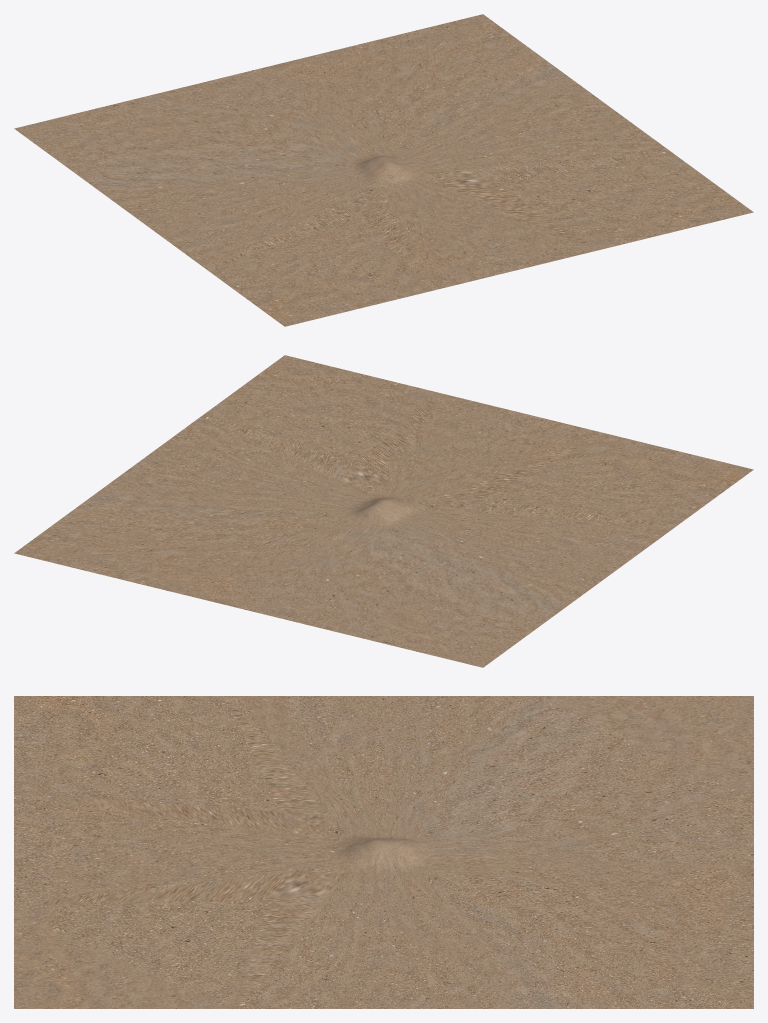
Rendered from Sand.glb.
The picture shows the model from 3 angles, top to bottom: view 1: azimuth 30°, elevation 25°; view 2: azimuth 150°, elevation 25°; view 3: azimuth 270°, elevation 25°; orthographic projection. The views are drawn at different scales.
Parts seen in each view (by area): view 1: Plane; view 2: Plane; view 3: Plane.
Boxes of the visible parts, x1=… form: Plane: x1=14, y1=14, x2=753, y2=326; Plane: x1=14, y1=355, x2=753, y2=667; Plane: x1=14, y1=696, x2=753, y2=1008.
Bounding box in the file's own units: 80 × 1.42 × 80.
Materials: 1 (1 with a texture image).
